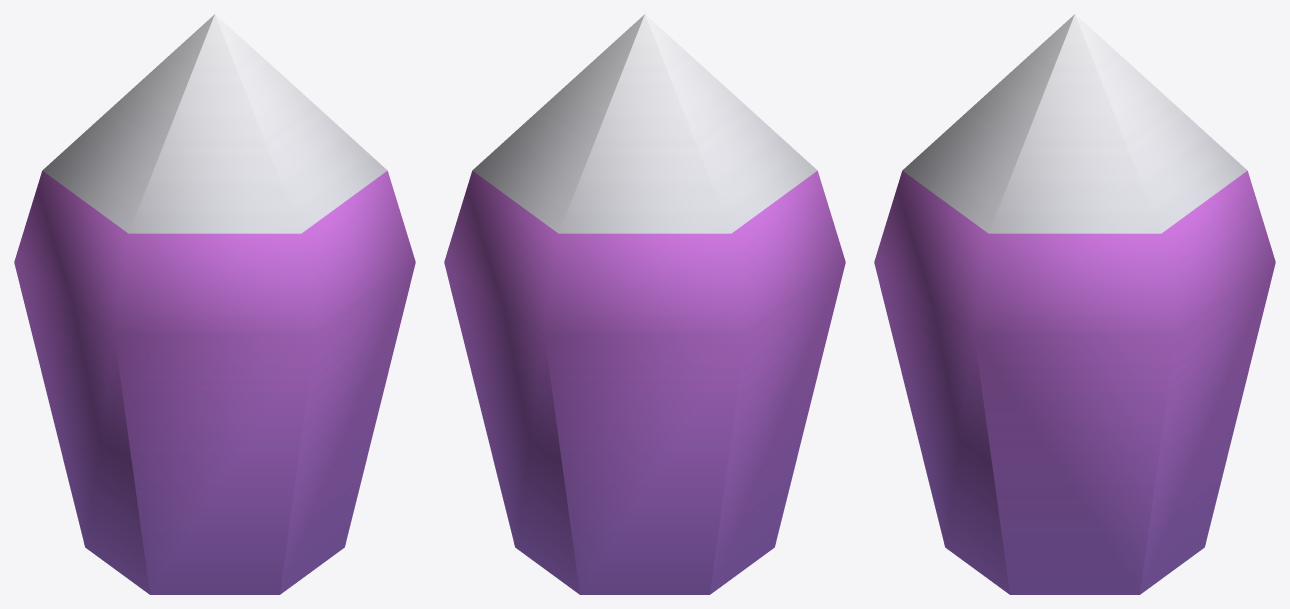
File: snow-detail-crystal.fbx
3 renders of one model, left to right at view 1: azimuth 30°, elevation 25°; view 2: azimuth 150°, elevation 25°; view 3: azimuth 270°, elevation 25°, orthographic.
Parts seen in each view (by area): view 1: snow-detail-crystal; view 2: snow-detail-crystal; view 3: snow-detail-crystal.
Part boxes in pixels (<box>): snow-detail-crystal: <box>14,14,415,594</box>; snow-detail-crystal: <box>444,14,845,594</box>; snow-detail-crystal: <box>874,14,1275,594</box>.
Bounding box in the file's own units: 25.12 × 42.5 × 29.
